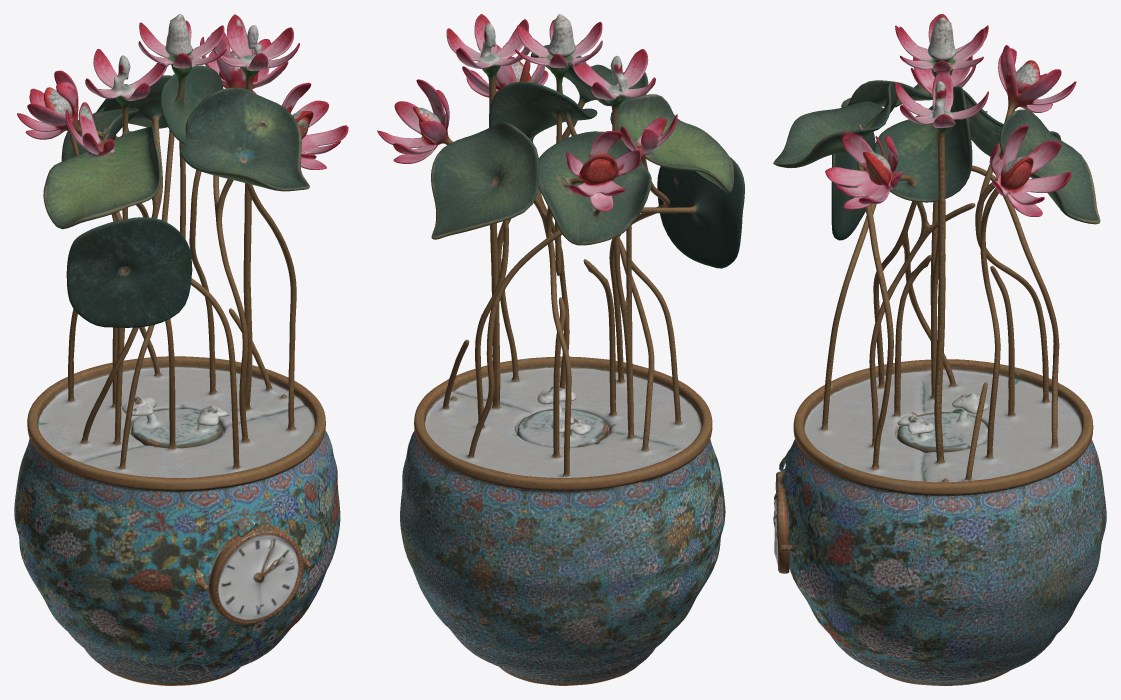
The model's file is 铜镀金嵌珐琅转鸭荷花缸钟.glb.
3 renders of one model, left to right at view 1: azimuth 30°, elevation 25°; view 2: azimuth 150°, elevation 25°; view 3: azimuth 270°, elevation 25°, orthographic.
Parts seen in each view (by area): view 1: tripo_node_2053440a; view 2: tripo_node_2053440a; view 3: tripo_node_2053440a.
Part boxes in pixels (<box>): tripo_node_2053440a: <box>14,14,348,685</box>; tripo_node_2053440a: <box>377,14,744,685</box>; tripo_node_2053440a: <box>773,14,1106,685</box>.
Size of the model in its own units: 46.49 by 98.1 by 46.25.
Materials: 1 (1 with a texture image).
